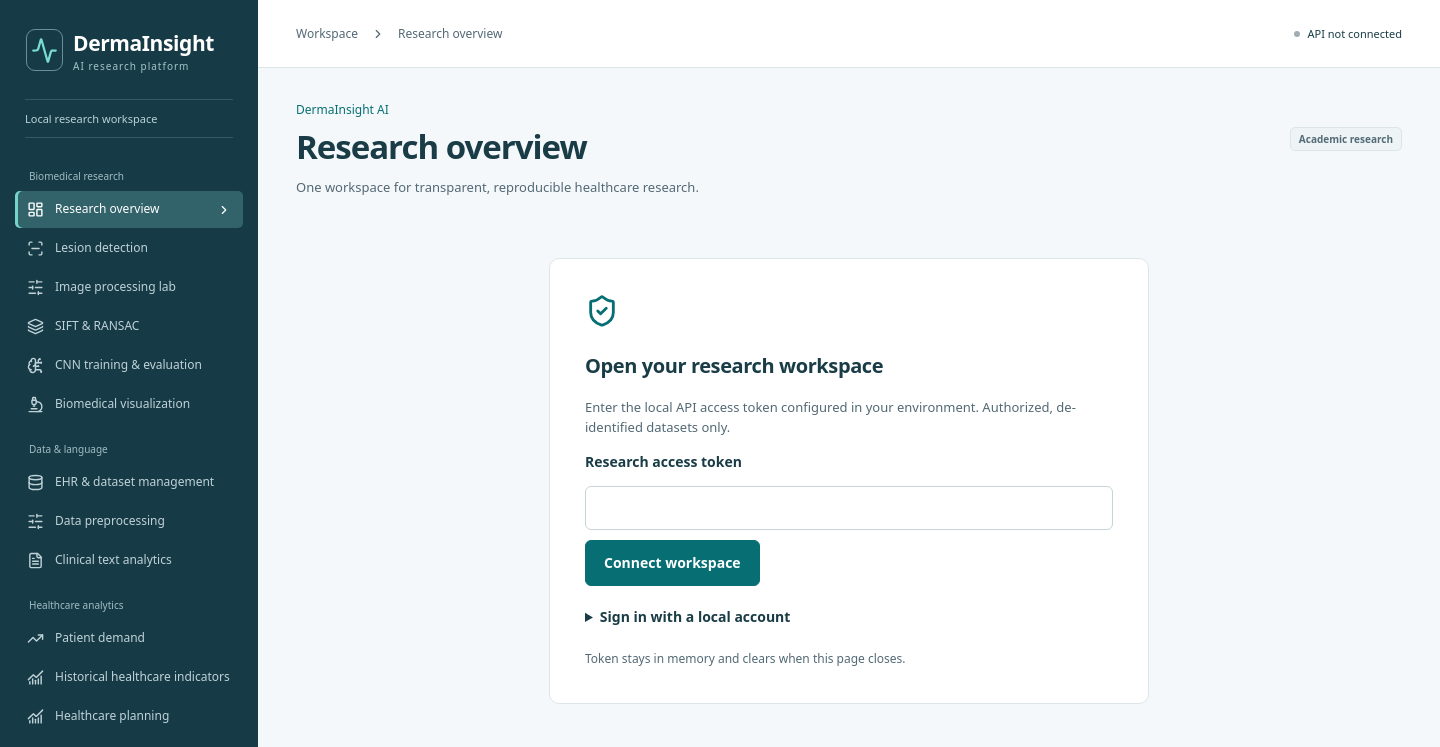
Scenario: shows missing operational inputs instead of fabricated demand
The width and height of the screenshot is (1440, 747).
Step 1. Type "isolated-component-test-token" into the password field labelled "Research access token" → (849, 508), box [585, 486, 1113, 530]
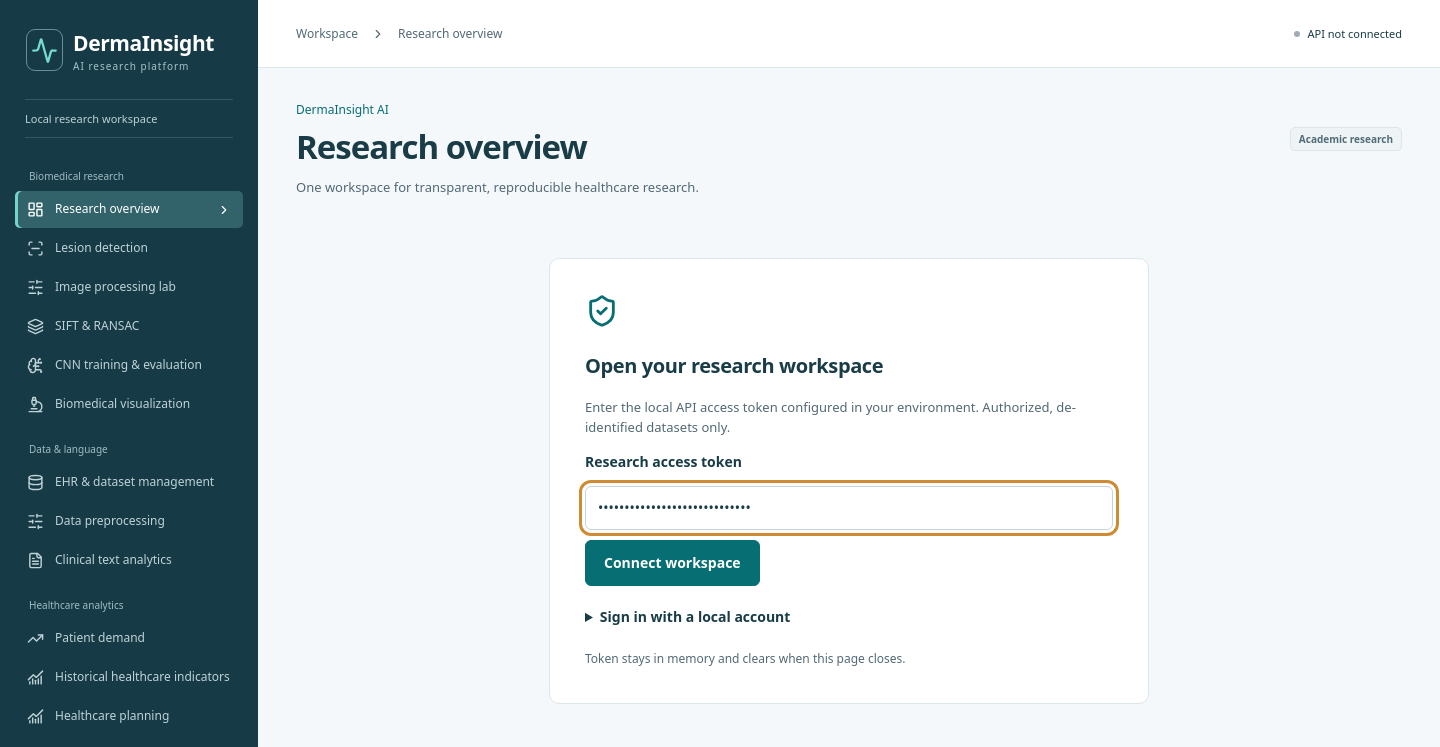
Step 2. Click the button "Connect workspace" → (672, 563), box [585, 540, 760, 586]
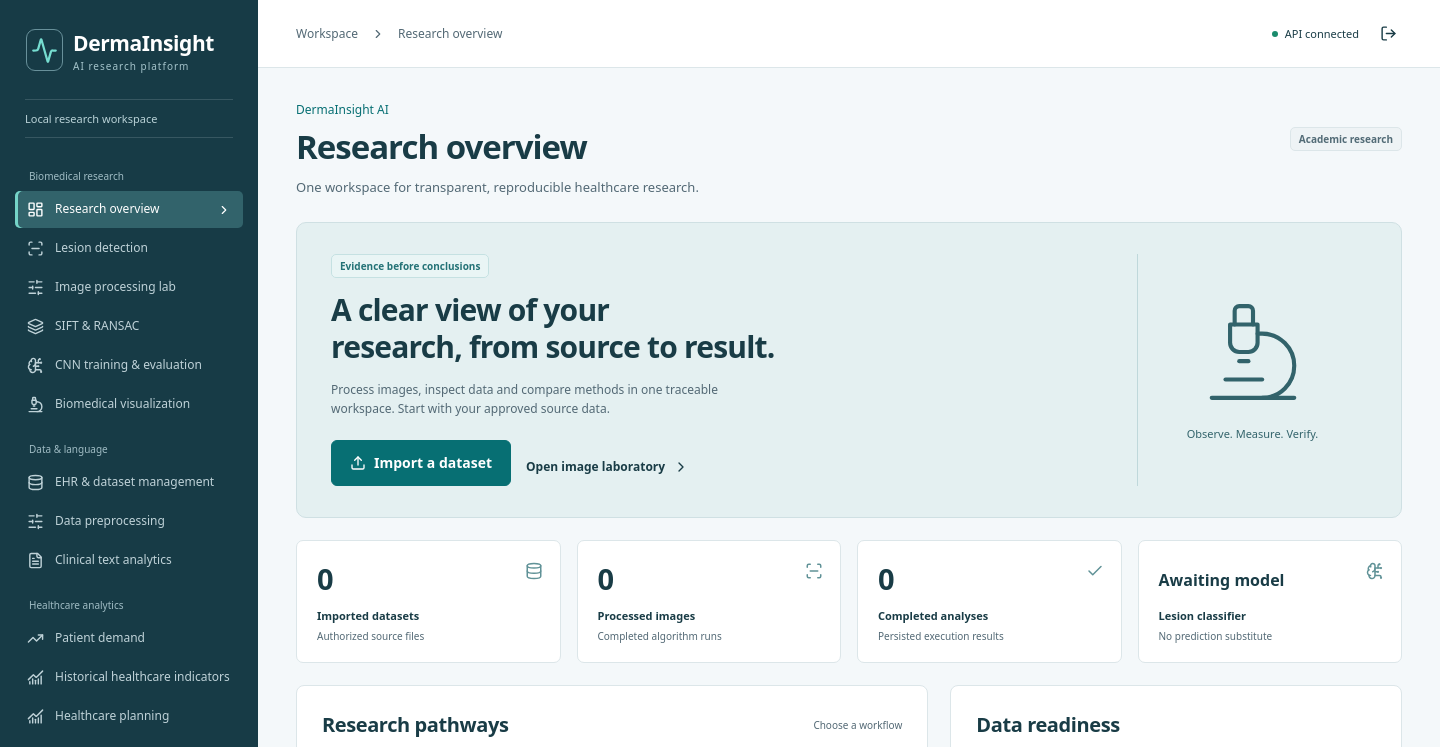
Check: the text "API connected" is shown, box [1272, 25, 1359, 42]
Step 3. Click the link "Patient demand" → (86, 638), box [27, 629, 145, 647]
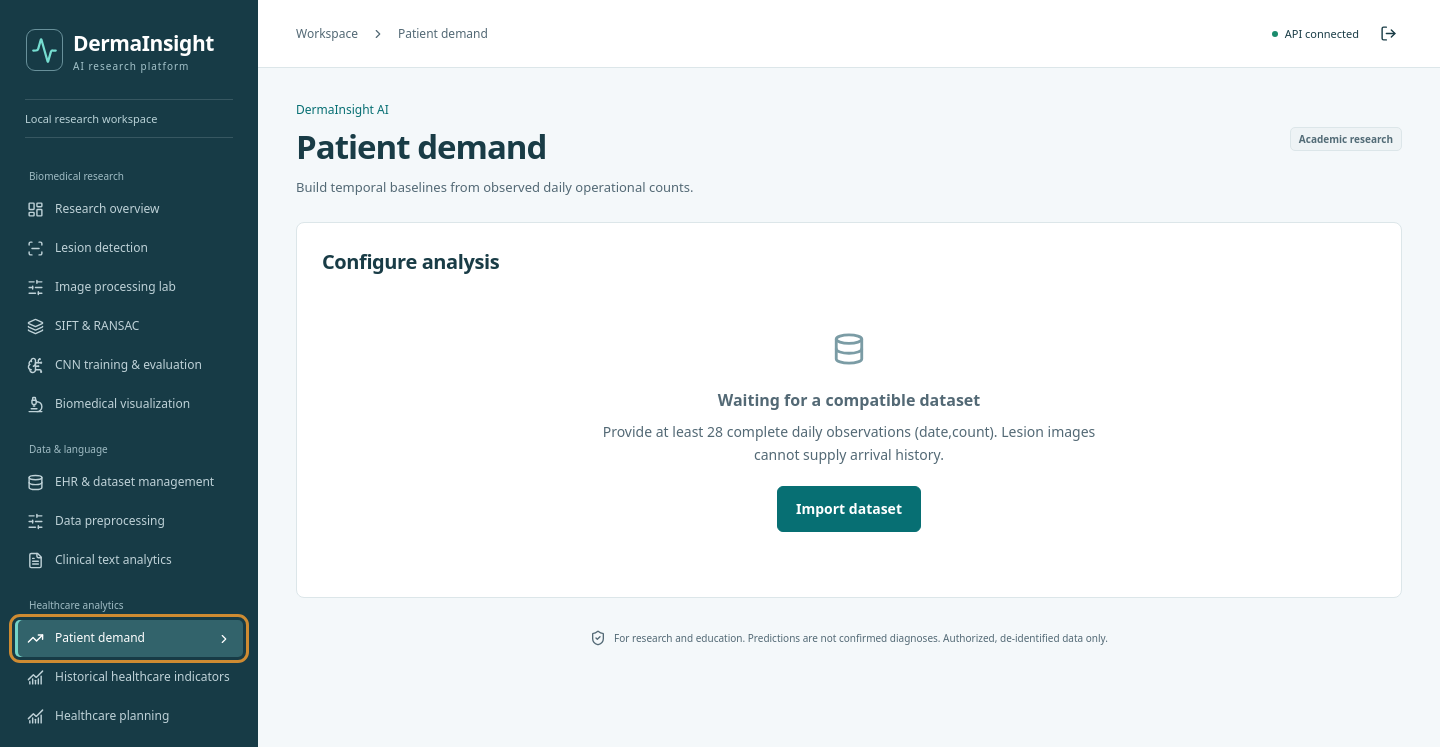
Check: the heading "Waiting for a compatible dataset" is shown, box [718, 389, 980, 411]
Check: the text "28 complete daily observations" is shown, box [603, 422, 1095, 464]
